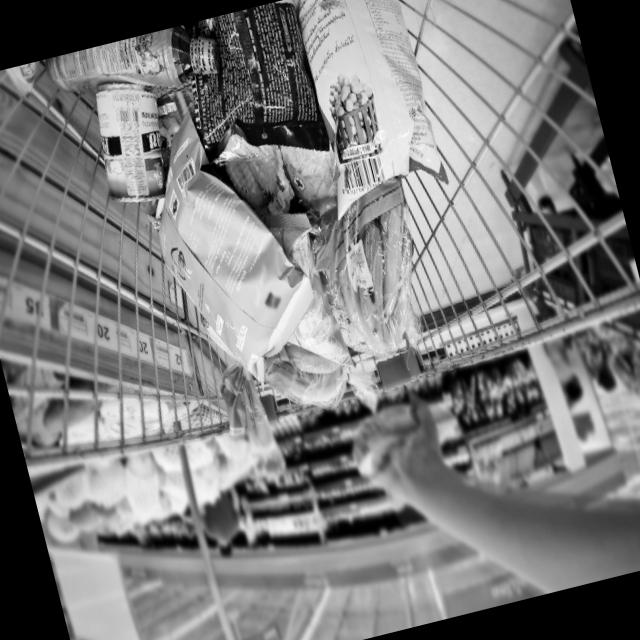bread: (194, 324, 280, 461)
chuoi: (243, 192, 442, 405)
